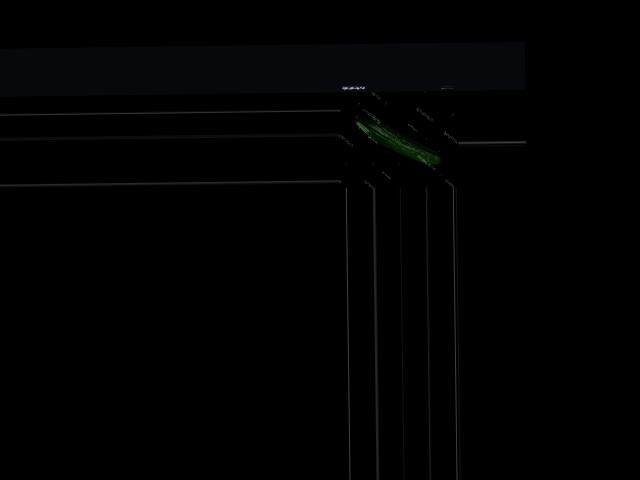cucumber: (354, 110, 442, 166)
